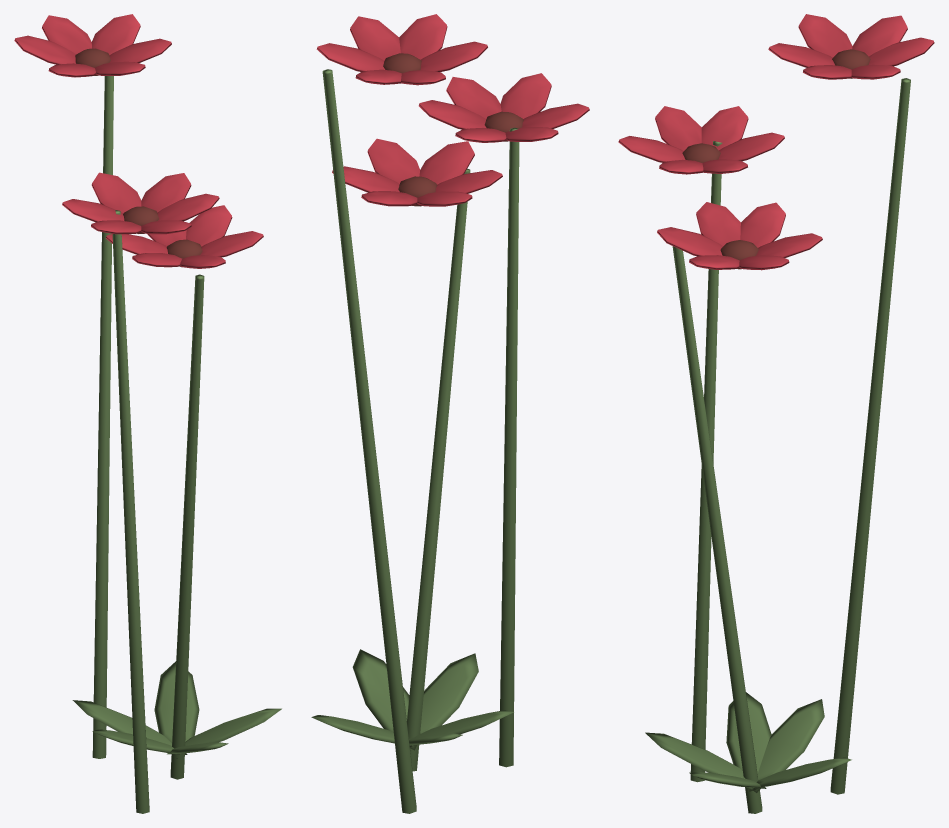
Rendered from herb_krvavy_trn.glb.
The picture shows the model from 3 angles, left to right: view 1: azimuth 30°, elevation 25°; view 2: azimuth 150°, elevation 25°; view 3: azimuth 270°, elevation 25°; orthographic projection. The views are drawn at different scales.
Visible parts, largest first — view 1: herb_krvavy_trn; view 2: herb_krvavy_trn; view 3: herb_krvavy_trn.
Boxes of the visible parts, x1,y1,x2,y2 form: herb_krvavy_trn: (14,14,281,813); herb_krvavy_trn: (311,14,589,813); herb_krvavy_trn: (618,14,934,813).
Bounding box in the file's own units: 0.1784 × 0.6097 × 0.2335.
